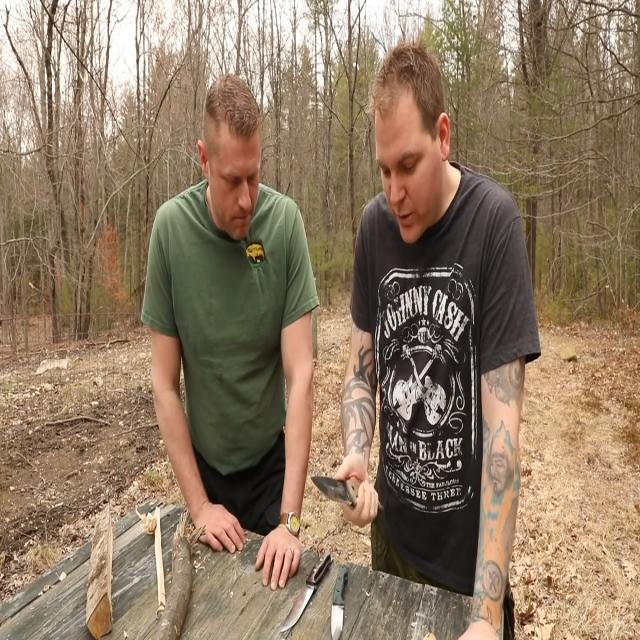knife: (281, 548, 335, 633), (308, 472, 362, 517), (330, 562, 350, 640)
